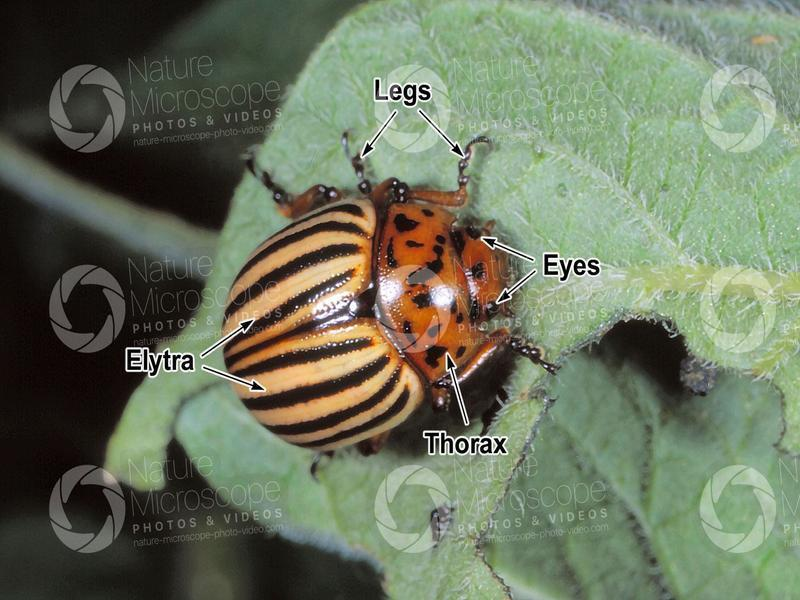hrosc: (215, 169, 517, 462)
